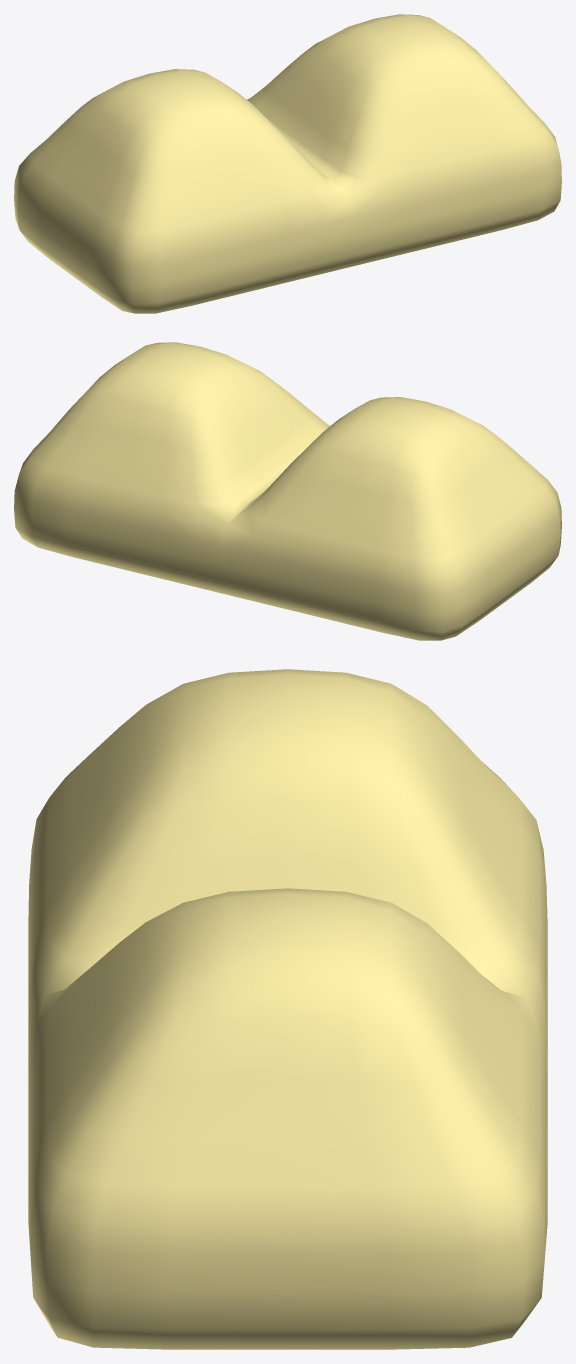
The model's file is Chocwhite_02.fbx.
3 views of the same model, one above another, from view 1: azimuth 30°, elevation 25°; view 2: azimuth 150°, elevation 25°; view 3: azimuth 270°, elevation 25° (orthographic). The views are drawn at different scales.
Parts seen in each view (by area): view 1: Chocwhite_02_LOD0; view 2: Chocwhite_02_LOD0; view 3: Chocwhite_02_LOD0.
Part boxes in pixels (x1,y1,x2,y2): Chocwhite_02_LOD0: (14, 14, 561, 313); Chocwhite_02_LOD0: (14, 342, 561, 640); Chocwhite_02_LOD0: (28, 669, 547, 1349).
Size of what is drawn, in the model's own units: 570 by 212 by 285.
